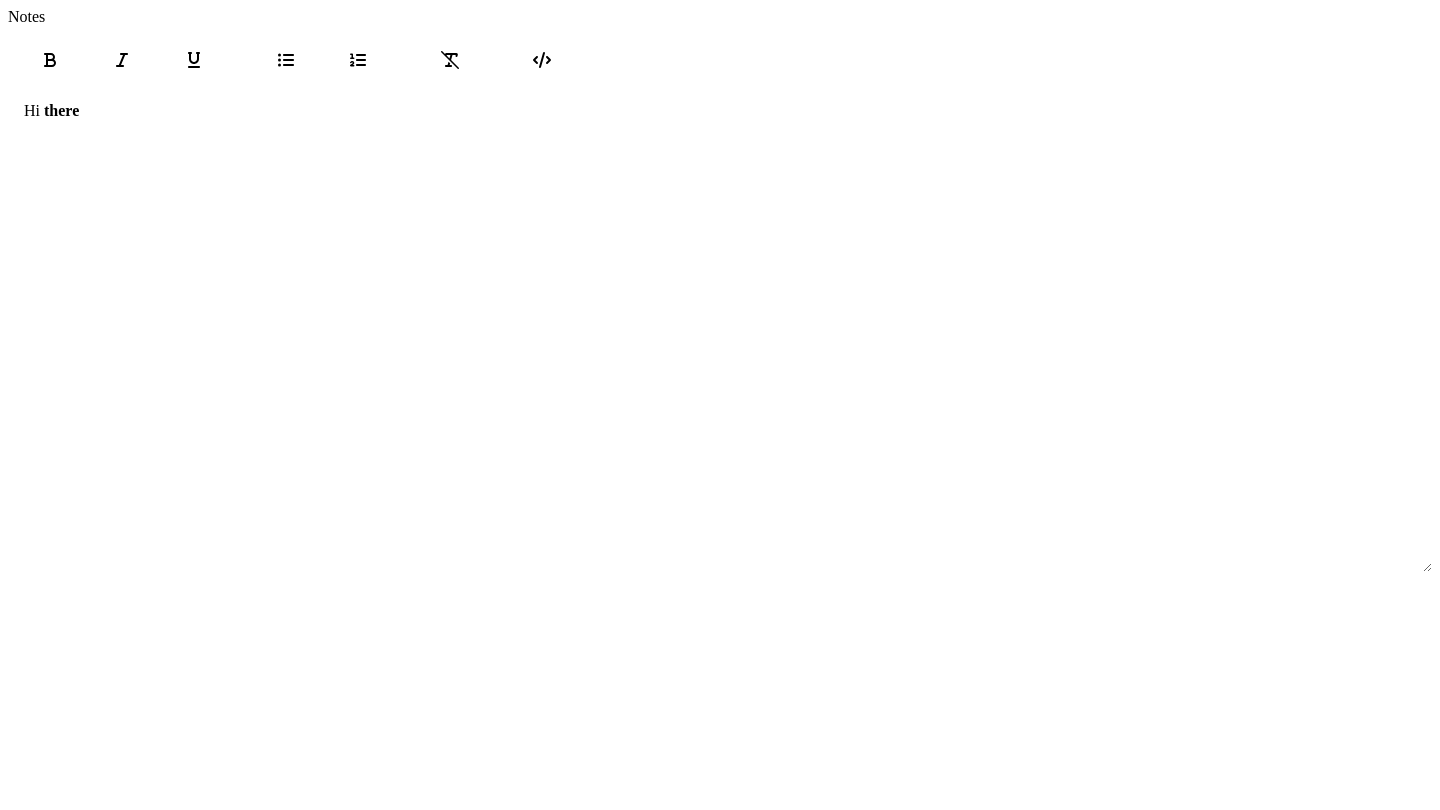
Test case: RichTextEditor › editing › HTML source view › returns to the editor
The image size is (1440, 810).
expect the button named "Bold" is enabled: met, box [16, 36, 84, 84]
expect the button named "Italic" is enabled: met, box [88, 36, 156, 84]
Click the button named "Show HTML": {"x": 542, "y": 60} [508, 36, 576, 84]
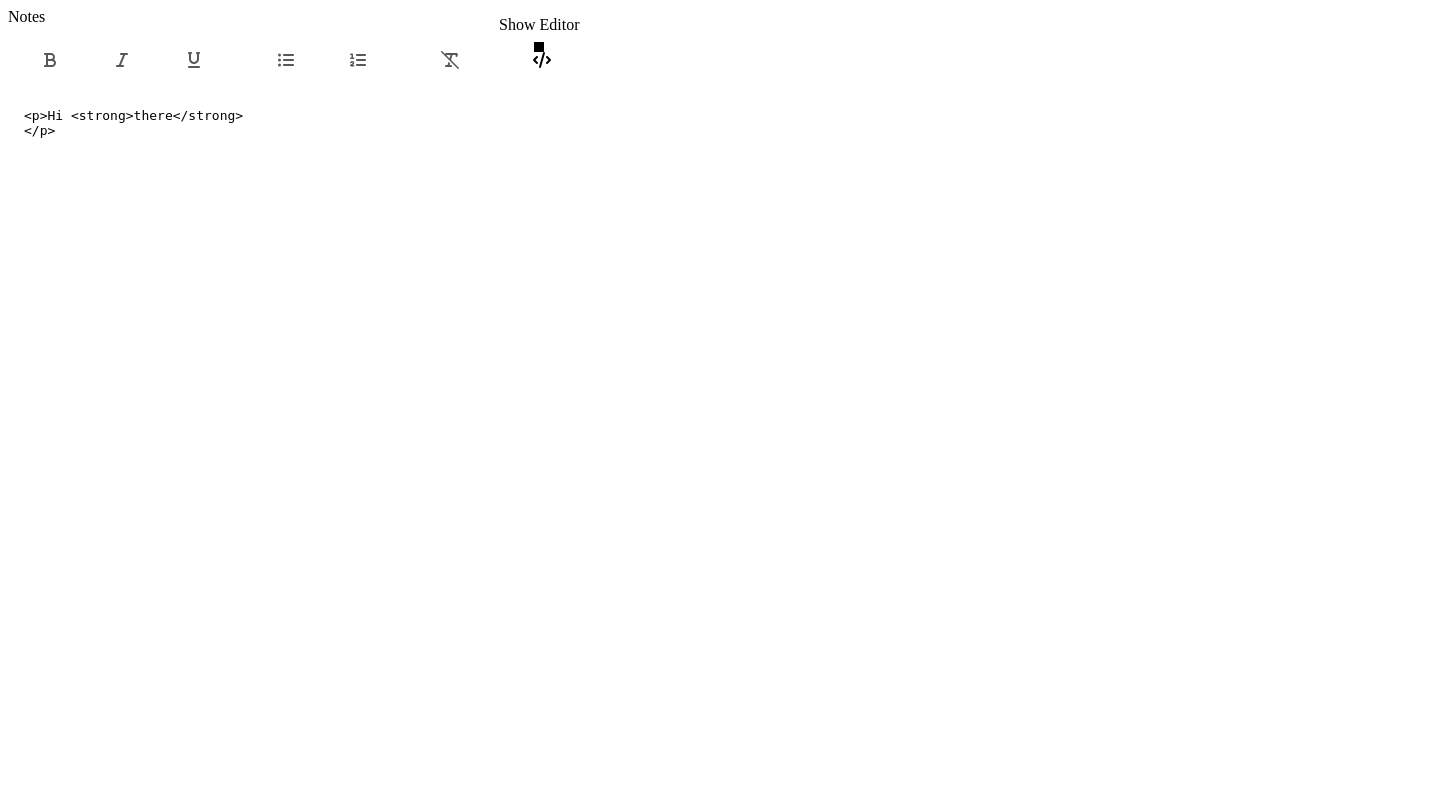
Click the button named "Show editor": {"x": 542, "y": 60} [508, 36, 576, 84]
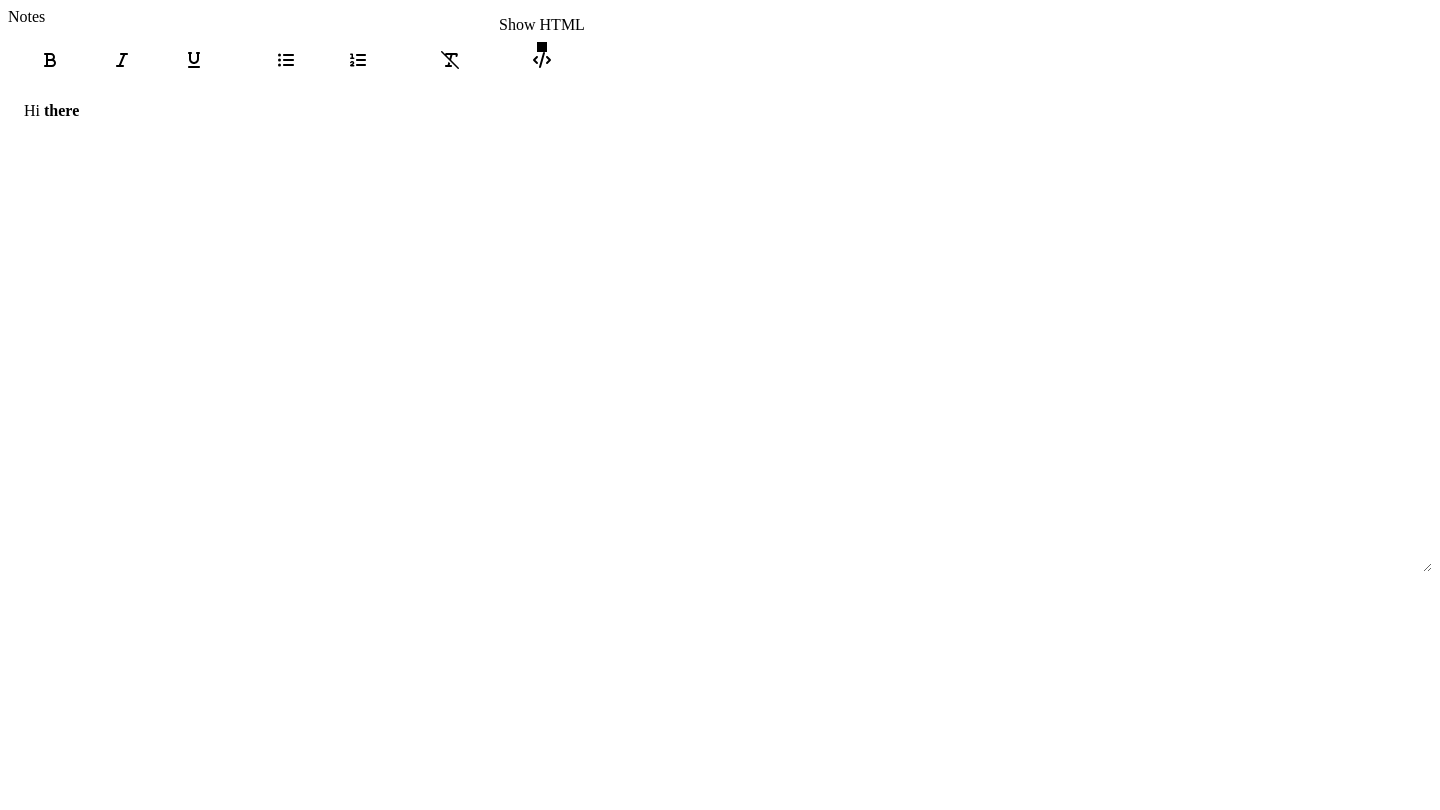
expect the field reads "Hi there": met, box [24, 102, 79, 119]
